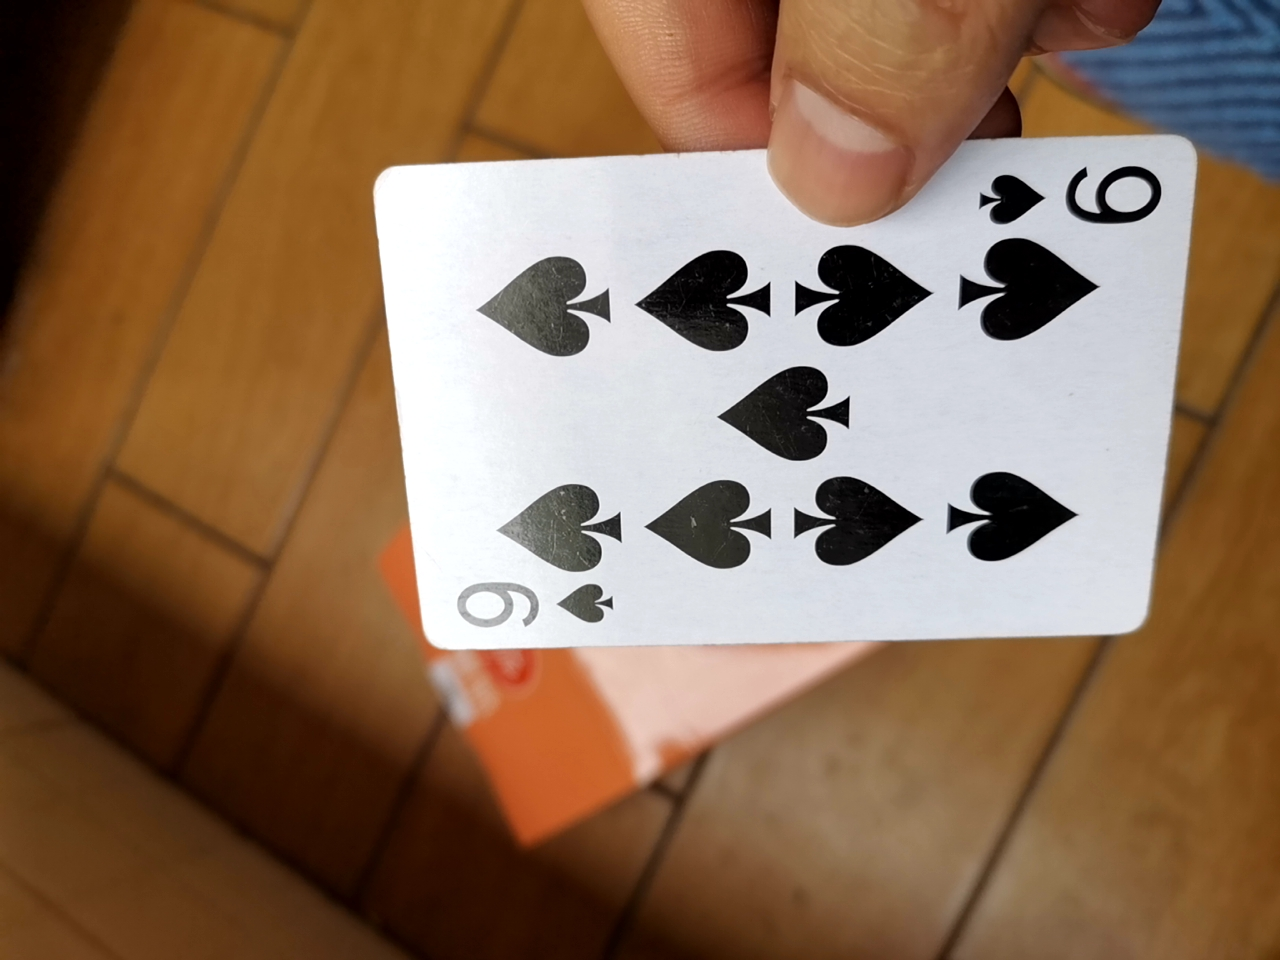ht 9: (356, 132, 1177, 666)
